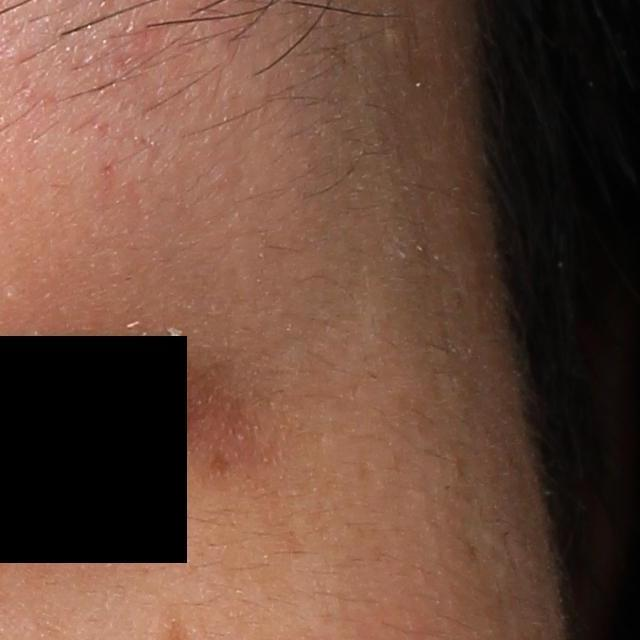melasma: (199, 450, 238, 487)
